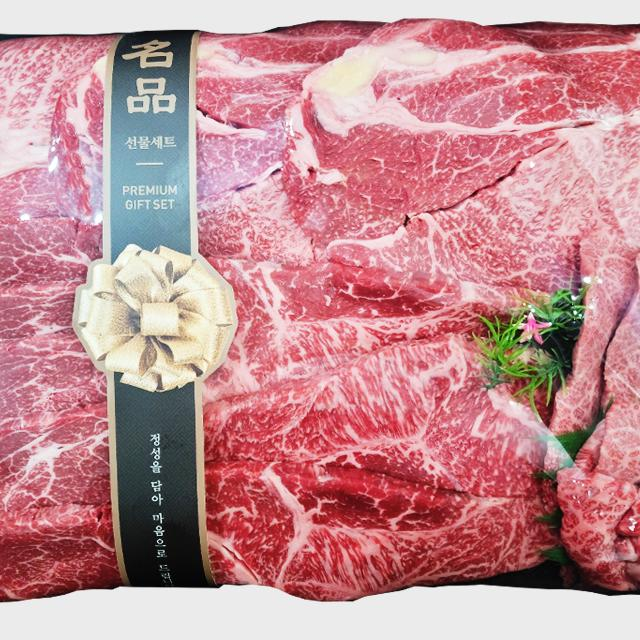beef: (0, 43, 640, 567)
